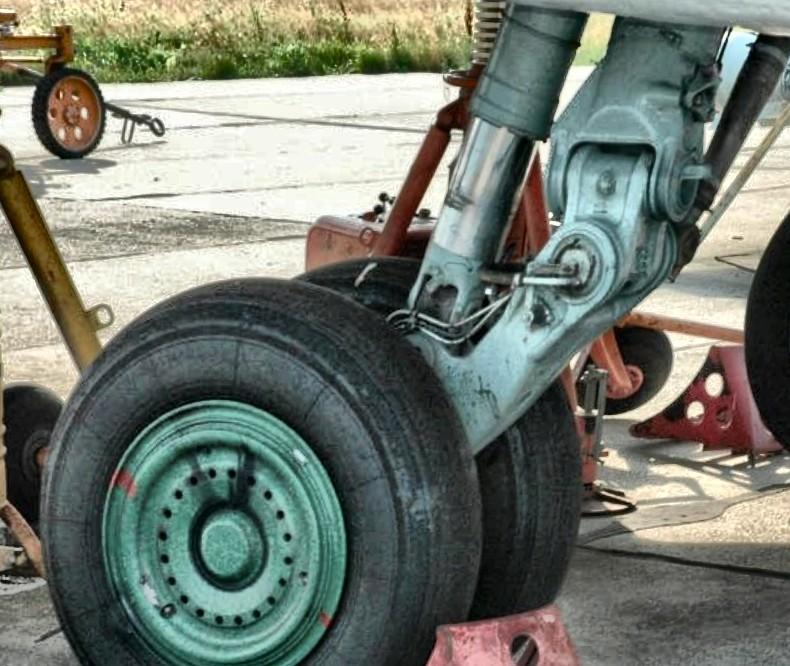chock: (325, 599, 659, 666)
wheel: (29, 266, 511, 666)
